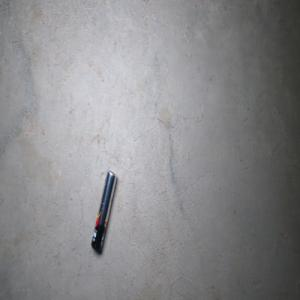Battery: (90, 169, 117, 253)
